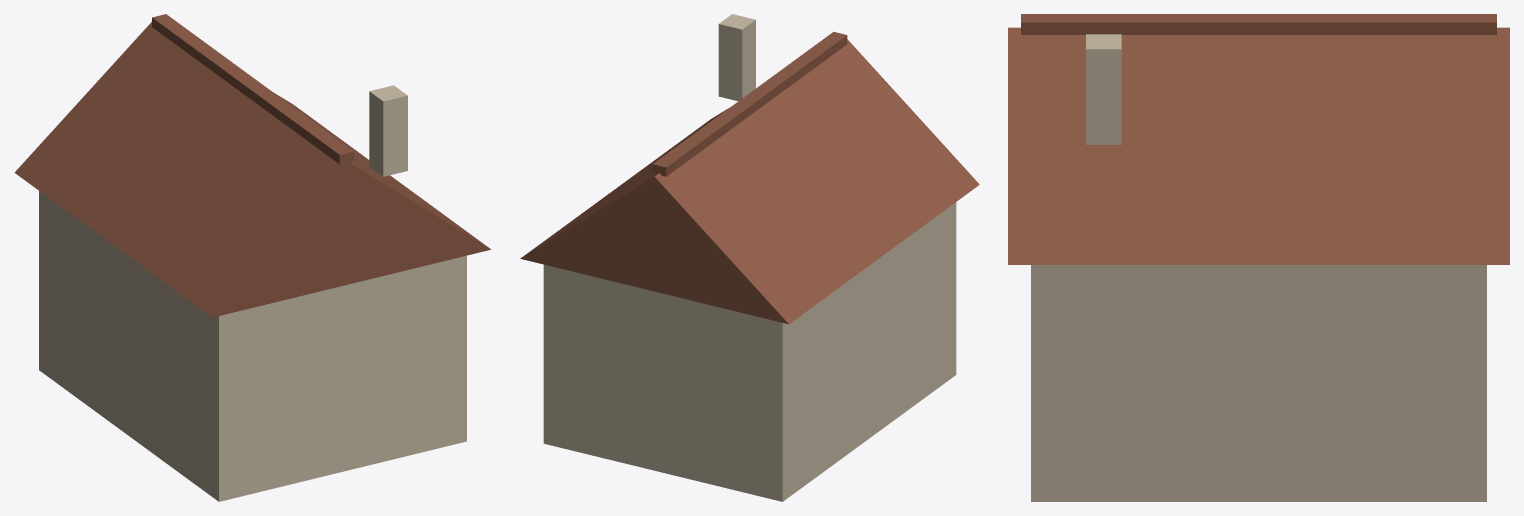
File: townhouse_a.glb
3 renders of one model, left to right at view 1: azimuth 30°, elevation 25°; view 2: azimuth 150°, elevation 25°; view 3: azimuth 270°, elevation 25°, orthographic. The views are drawn at different scales.
Visible parts, largest first — view 1: townhouse_a; view 2: townhouse_a; view 3: townhouse_a.
Part boxes in pixels (<box>): townhouse_a: <box>14,14,490,501</box>; townhouse_a: <box>520,14,979,501</box>; townhouse_a: <box>1008,14,1509,501</box>.
Size of the model in its own units: 7.32 by 8.5 by 9.
